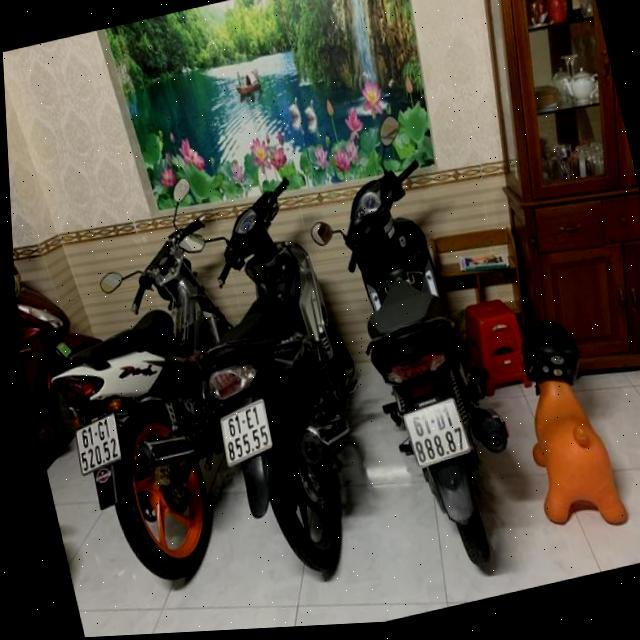motorcycle: (290, 109, 543, 609), (12, 180, 282, 605), (153, 158, 394, 599), (14, 270, 101, 479), (394, 388, 479, 481)
plate: (400, 395, 475, 473), (212, 394, 280, 469), (65, 408, 131, 481)
